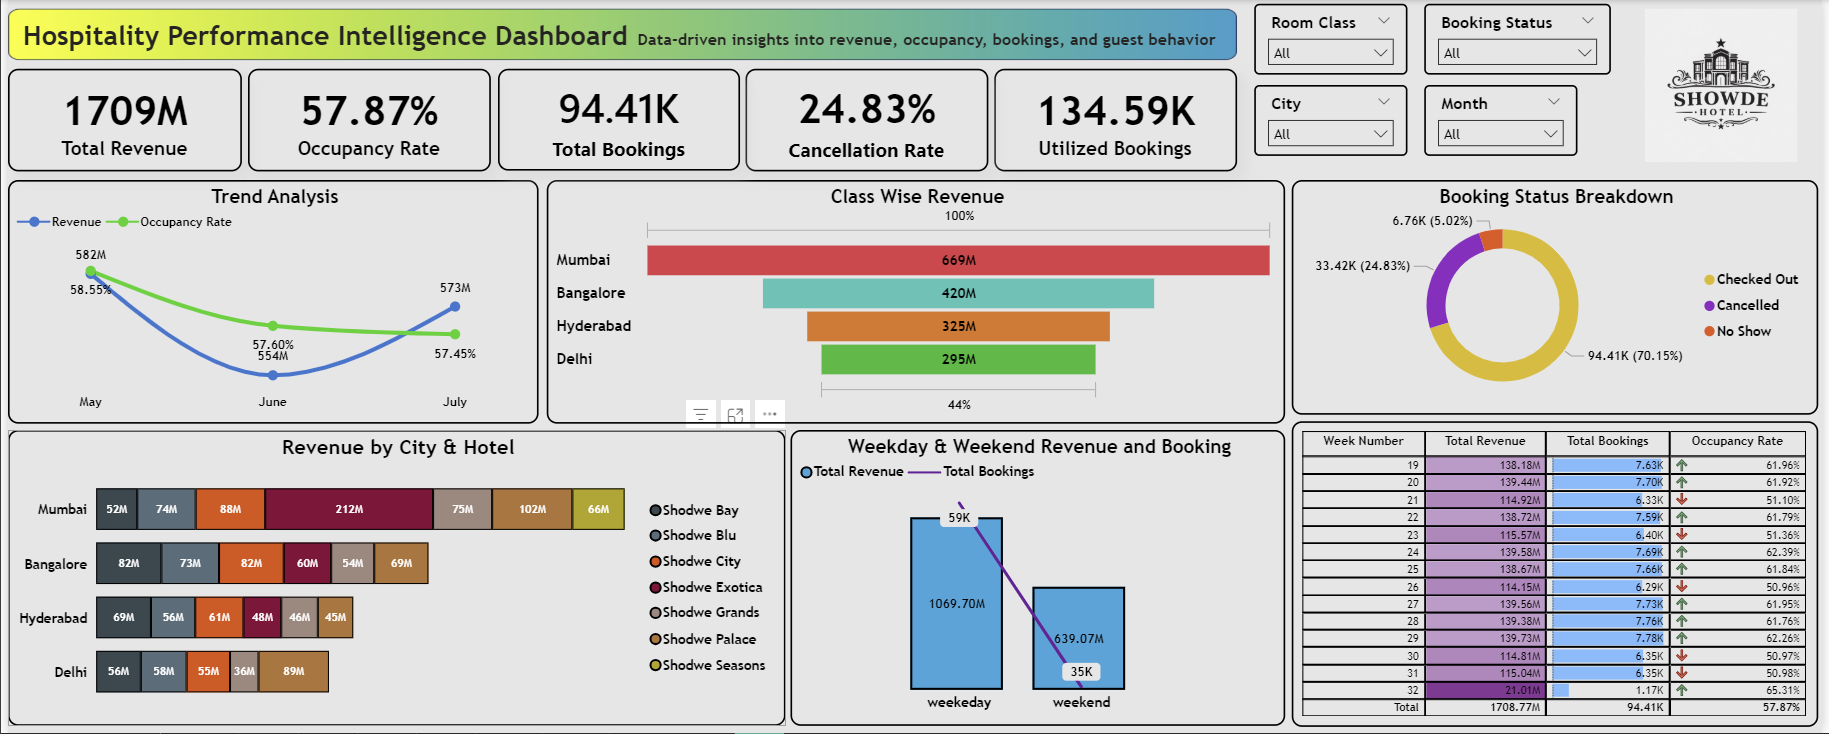

Layout of this report page (visuals, bound fields, positions):
{"tool":"tableau","page":{"name":"Dashboard","canvas":[1250,680],"ordinal":0},"visuals":[{"type":"image","param":"Image/Title Image.png","box":[49,3,833,88]},{"type":"image","param":"Image/SHODWE HOTEL.png","box":[993,7,210,113]},{"type":"text","box":[50,21,831,51]},{"type":"worksheet","title":"1","mark":"Automatic","box":[6,95,177,70]},{"type":"worksheet","title":"2","mark":"Automatic","box":[190,95,180,70]},{"type":"worksheet","title":"3","mark":"Automatic","box":[377,95,180,70]},{"type":"worksheet","title":"5","mark":"Automatic","box":[754,95,180,70]},{"type":"worksheet","title":"4","mark":"Automatic","box":[563,96,180,70]},{"type":"worksheet","title":"8","mark":"Square","rows":["property_name","city"],"box":[941,128,312,547]},{"type":"worksheet","title":"10","mark":"Automatic","box":[6,170,327,217]},{"type":"worksheet","title":"6","mark":"Area","rows":["revenue_realized"],"cols":["check_in_date"],"box":[338,170,340,185]},{"type":"worksheet","title":"7","mark":"Automatic","rows":["booking_id","booking_id"],"cols":["day_type"],"box":[685,170,250,185]},{"type":"worksheet","title":"11","mark":"Automatic","rows":["revenue_realized","revenue_realized"],"cols":["week no"],"box":[339,360,597,315]},{"type":"worksheet","title":"9","mark":"Pie","rows":["Calculation_0478381838295051","Calculation_0478381838295051"],"box":[6,392,327,283]}]}

Visuals, with their boxes on the page's 1250x680 design canvas (x1, y1, x2, y2). These are canvas units, not pixel positions in the 1829x734 screenshot, which may show the page scaled, cropped or inside an application window:
image: 49/3/882/91
image: 993/7/1203/120
text: 50/21/881/72
"1" worksheet: 6/95/183/165
"2" worksheet: 190/95/370/165
"3" worksheet: 377/95/557/165
"5" worksheet: 754/95/934/165
"4" worksheet: 563/96/743/166
"8" worksheet (Square marks): 941/128/1253/675
"10" worksheet: 6/170/333/387
"6" worksheet (Area marks): 338/170/678/355
"7" worksheet: 685/170/935/355
"11" worksheet: 339/360/936/675
"9" worksheet (Pie marks): 6/392/333/675
